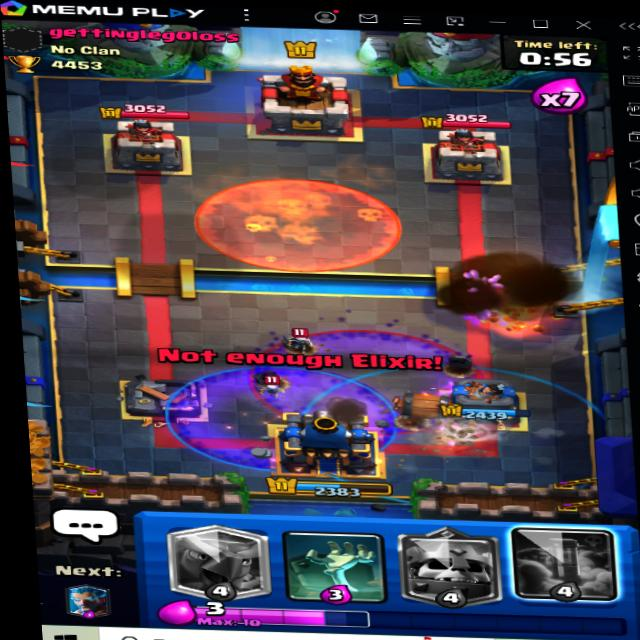Graveyard: (249, 318, 487, 438)
Poison: (187, 169, 402, 276)
Skeleton: (259, 373, 303, 405), (286, 324, 323, 351)
